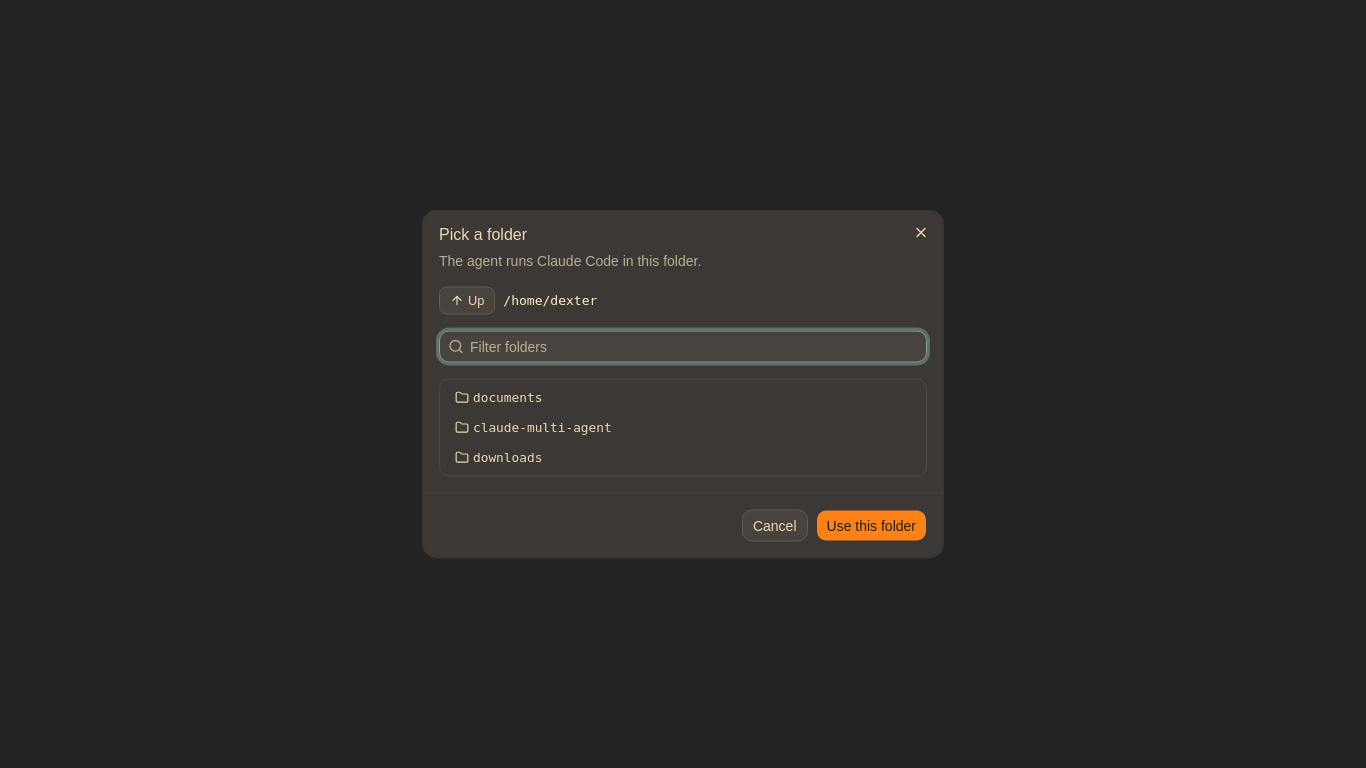
Scenario: the folder dialog filter › the user is told when no folder matches
The width and height of the screenshot is (1366, 768).
Expected: the button "documents" is shown, 444,384 -> 922,412
Step 1. Type "zzz" into the field labelled "Filter folders" → (695, 346), box 464,330 -> 926,362
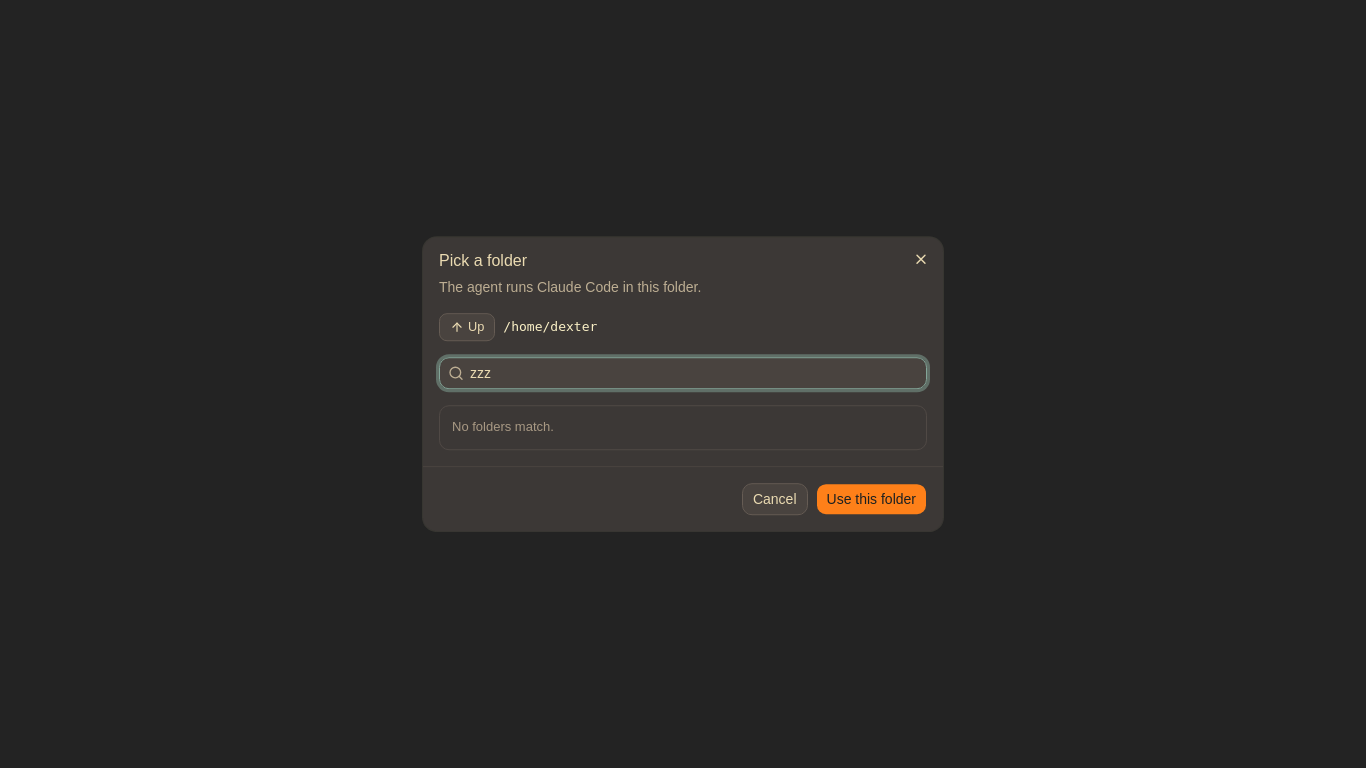
Result: the text "No folders match." is shown at 452,419 -> 554,434
